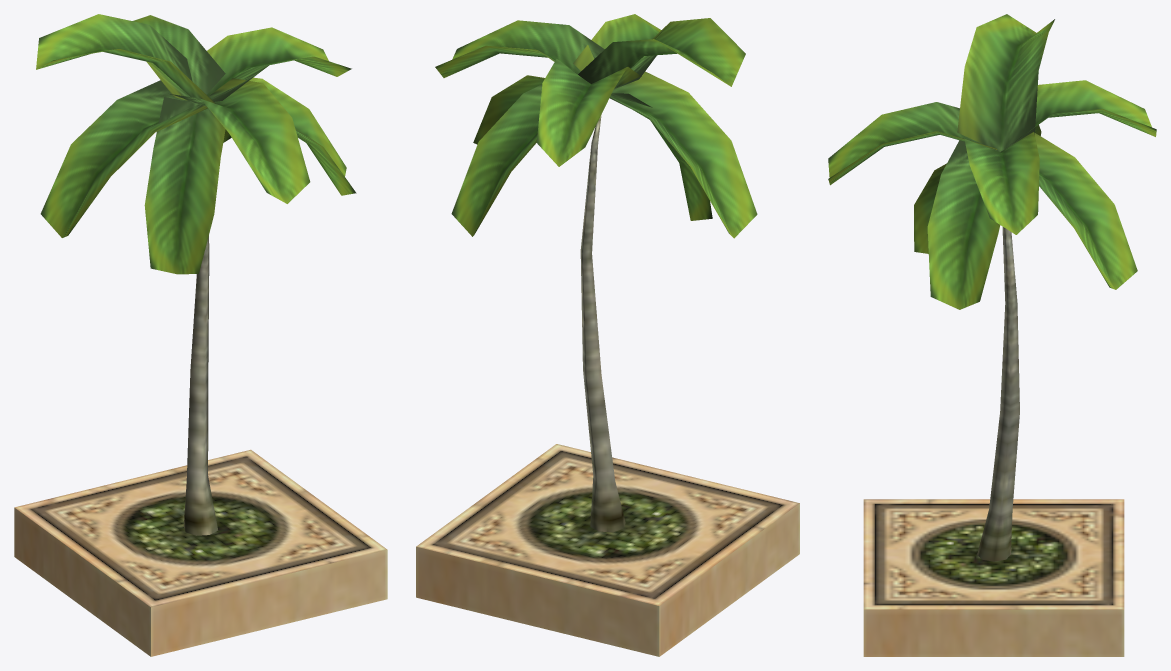
The model's file is palm01.glb.
The picture shows the model from 3 angles, left to right: view 1: azimuth 30°, elevation 25°; view 2: azimuth 150°, elevation 25°; view 3: azimuth 270°, elevation 25°; orthographic projection. The views are drawn at different scales.
Visible parts, largest first — view 1: palm01; view 2: palm01; view 3: palm01.
Boxes of the visible parts, x1,y1,x2,y2 form: palm01: (14,14,387,656); palm01: (416,14,799,656); palm01: (828,14,1156,656).
Size of the model in its own units: 6.16 by 11.32 by 6.3.
1 material, 1 textured.
